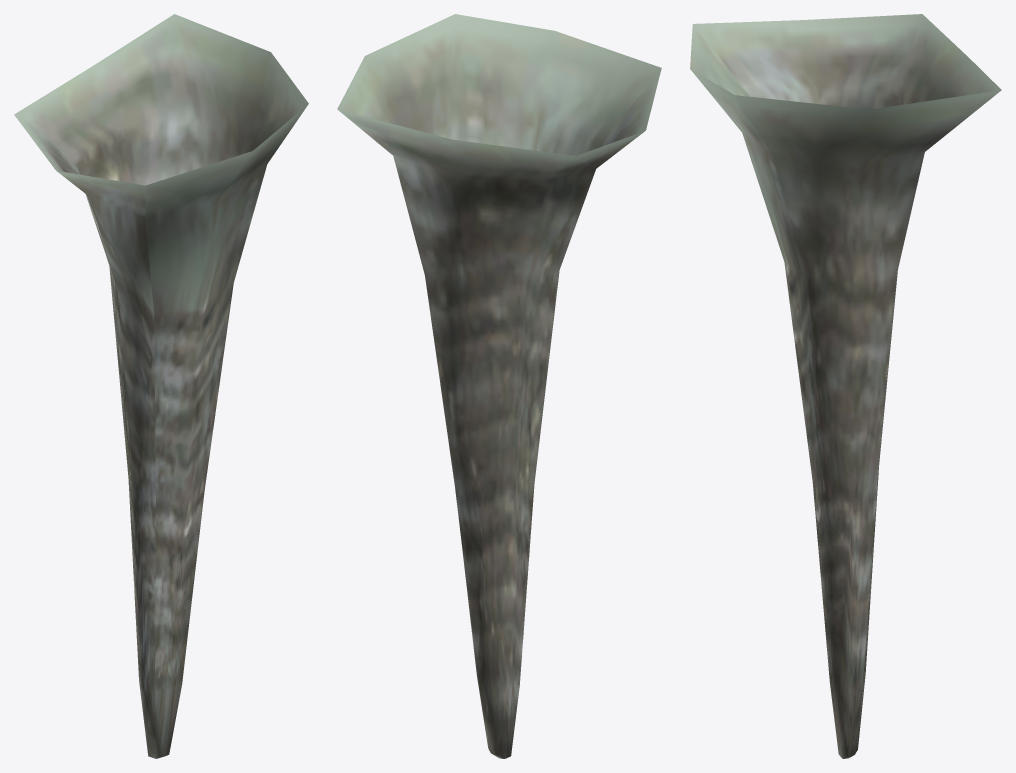
File: TROLLHOLE02_PS-UPPERSTALAG10.fbx
3 renders of one model, left to right at view 1: azimuth 30°, elevation 25°; view 2: azimuth 150°, elevation 25°; view 3: azimuth 270°, elevation 25°, orthographic. The views are drawn at different scales.
Parts seen in each view (by area): view 1: TROLLHOLE02_PS-UPPERSTALAG10; view 2: TROLLHOLE02_PS-UPPERSTALAG10; view 3: TROLLHOLE02_PS-UPPERSTALAG10.
Boxes of the visible parts, bbox=[...] form: TROLLHOLE02_PS-UPPERSTALAG10: bbox=[14, 14, 308, 758]; TROLLHOLE02_PS-UPPERSTALAG10: bbox=[337, 14, 661, 758]; TROLLHOLE02_PS-UPPERSTALAG10: bbox=[690, 14, 1001, 758].
Bounding box in the file's own units: 11696 × 30470 × 12057.
1 material, 1 textured.
